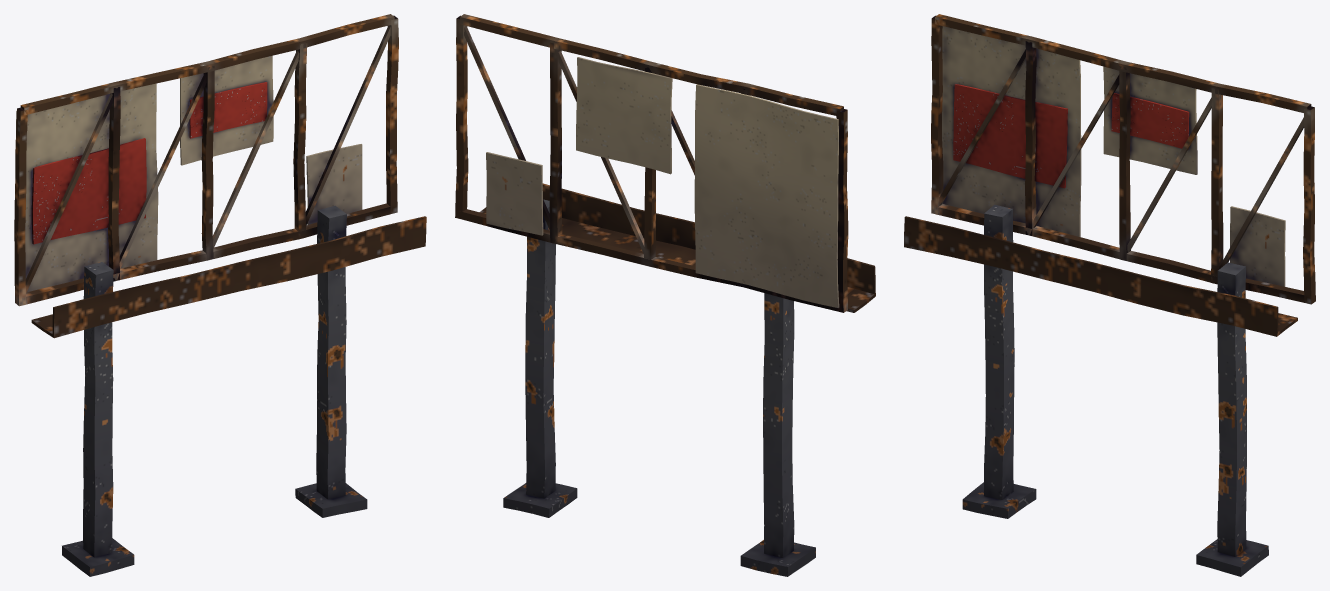
File: BillboardFrame.glb
3 views of the same model, side by side, from view 1: azimuth 30°, elevation 25°; view 2: azimuth 150°, elevation 25°; view 3: azimuth 330°, elevation 25° (orthographic). The views are drawn at different scales.
Parts seen in each view (by area): view 1: Lattice, Poster, Legs, Ad; view 2: Poster, Lattice, Legs; view 3: Lattice, Poster, Legs, Ad.
Boxes of the visible parts, bbox=[...] form: Lattice: bbox=[14, 14, 426, 338]; Poster: bbox=[16, 55, 362, 292]; Legs: bbox=[62, 205, 367, 576]; Ad: bbox=[31, 82, 267, 244]; Poster: bbox=[486, 57, 839, 307]; Lattice: bbox=[455, 14, 875, 312]; Legs: bbox=[503, 199, 815, 576]; Lattice: bbox=[904, 14, 1315, 336]; Poster: bbox=[942, 26, 1285, 286]; Legs: bbox=[962, 204, 1268, 576]; Ad: bbox=[953, 84, 1189, 188].
Size of the model in its own units: 8.19 by 9.61 by 1.48.
Materials: 4 (4 with a texture image).
